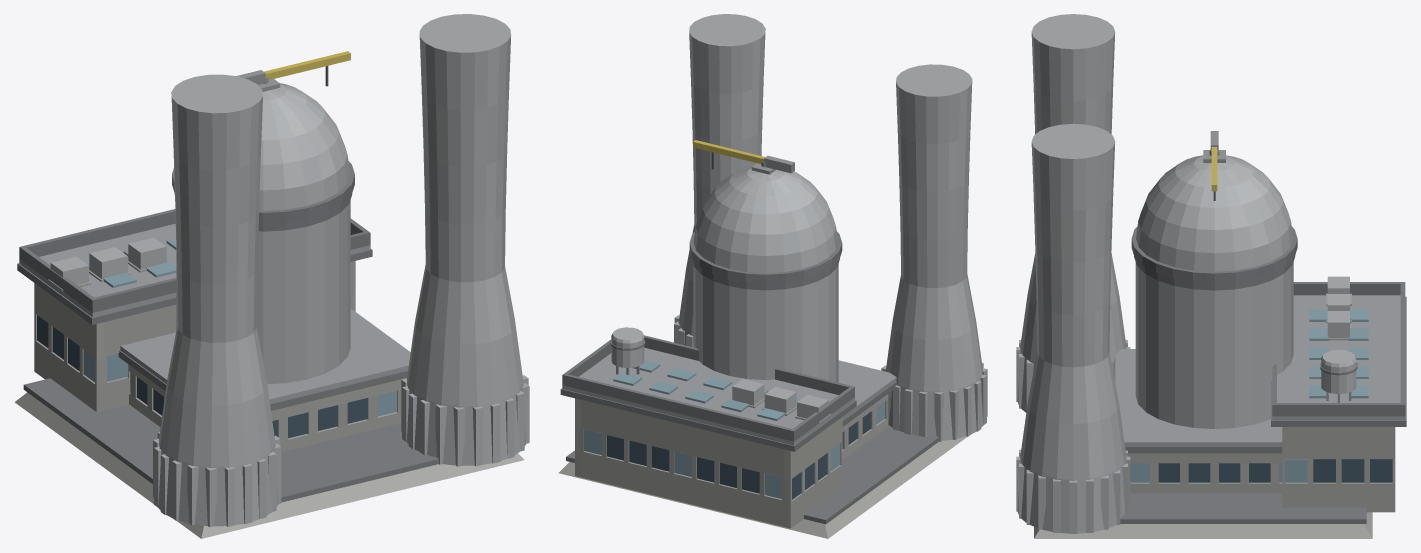
File: western_nuclear.glb
3 renders of one model, left to right at view 1: azimuth 30°, elevation 25°; view 2: azimuth 150°, elevation 25°; view 3: azimuth 270°, elevation 25°, orthographic. The views are drawn at different scales.
Parts seen in each view (by area): view 1: cool_l_tower, cool_r_tower, containment, plinth_cap, shield_dome, turbine_wall, plinth, reactor_deck, turbine_parapet, cool_l_tower_legs, cool_r_tower_legs, reactor_wall (+10 smaller); view 2: cool_l_tower, turbine_wall, containment, cool_r_tower, shield_dome, turbine_deck, turbine_parapet, plinth_cap, turbine_glass, plinth, cool_l_tower_legs, turbine_fascia (+9 smaller); view 3: cool_r_tower, containment, shield_dome, cool_l_tower, turbine_deck, turbine_wall, plinth_cap, reactor_deck, plinth, reactor_wall, turbine_parapet, cool_r_tower_legs (+11 smaller).
Part boxes in pixels (x1=…): cool_l_tower: x1=158, y1=74, x2=278, y2=526; cool_r_tower: x1=406, y1=14, x2=526, y2=465; containment: x1=176, y1=200, x2=350, y2=384; plinth_cap: x1=23, y1=378, x2=438, y2=502; shield_dome: x1=259, y1=83, x2=349, y2=210; turbine_wall: x1=34, y1=261, x2=355, y2=411; plinth: x1=14, y1=392, x2=524, y2=538; reactor_deck: x1=120, y1=308, x2=410, y2=403; turbine_parapet: x1=19, y1=209, x2=370, y2=312; cool_l_tower_legs: x1=153, y1=432, x2=281, y2=527; cool_r_tower_legs: x1=401, y1=375, x2=529, y2=466; reactor_wall: x1=129, y1=365, x2=405, y2=451; cool_l_tower: x1=885, y1=64, x2=983, y2=440; turbine_wall: x1=575, y1=398, x2=842, y2=528; containment: x1=693, y1=264, x2=838, y2=382; cool_r_tower: x1=678, y1=14, x2=765, y2=345; shield_dome: x1=693, y1=166, x2=837, y2=272; turbine_deck: x1=562, y1=347, x2=854, y2=445; turbine_parapet: x1=562, y1=335, x2=854, y2=441; plinth_cap: x1=566, y1=425, x2=938, y2=524; turbine_glass: x1=584, y1=429, x2=840, y2=499; plinth: x1=558, y1=436, x2=967, y2=538; cool_l_tower_legs: x1=881, y1=362, x2=987, y2=441; turbine_fascia: x1=560, y1=388, x2=856, y2=451; cool_r_tower: x1=1017, y1=123, x2=1128, y2=533; containment: x1=1135, y1=262, x2=1293, y2=428; shield_dome: x1=1136, y1=155, x2=1293, y2=271; cool_l_tower: x1=1017, y1=14, x2=1126, y2=412; turbine_deck: x1=1272, y1=295, x2=1405, y2=420; turbine_wall: x1=1282, y1=427, x2=1395, y2=512; plinth_cap: x1=1120, y1=493, x2=1366, y2=523; reactor_deck: x1=1115, y1=349, x2=1282, y2=446; plinth: x1=1034, y1=512, x2=1372, y2=538; reactor_wall: x1=1128, y1=453, x2=1282, y2=493; turbine_parapet: x1=1272, y1=282, x2=1405, y2=416; cool_r_tower_legs: x1=1016, y1=449, x2=1130, y2=533.
Size of the model in its own units: 33.1 by 37.2 by 34.55.
